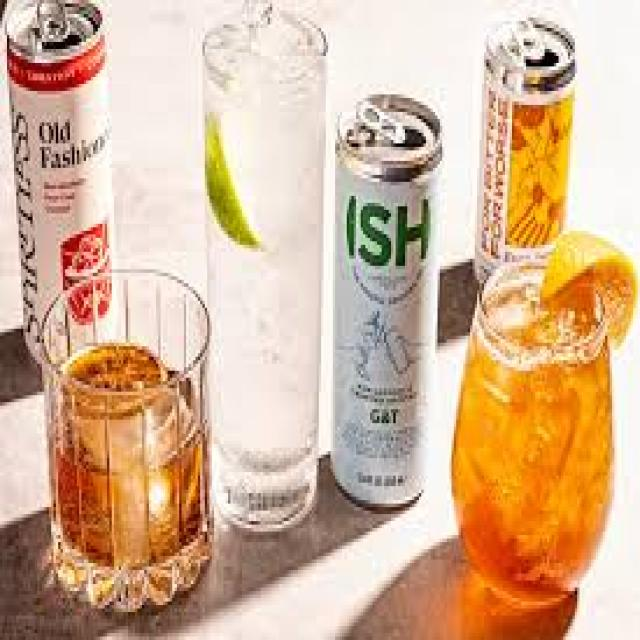Cans: (330, 91, 440, 518), (2, 4, 116, 356), (470, 7, 575, 280)
